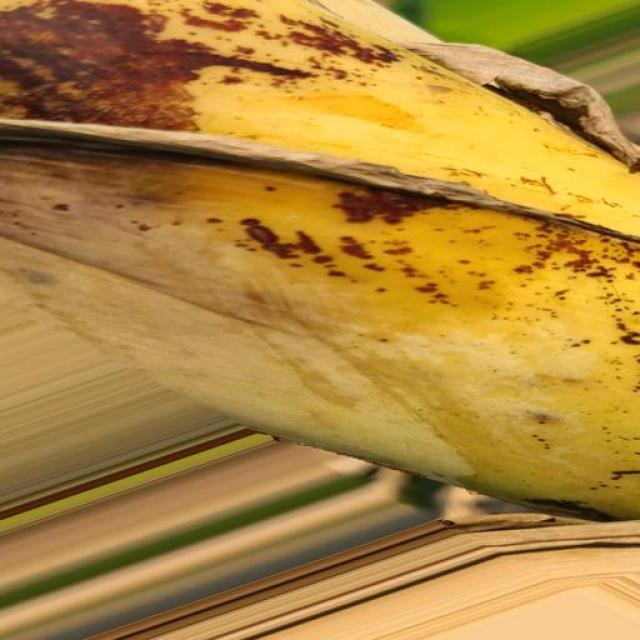Anthracnose: (5, 3, 640, 521)
